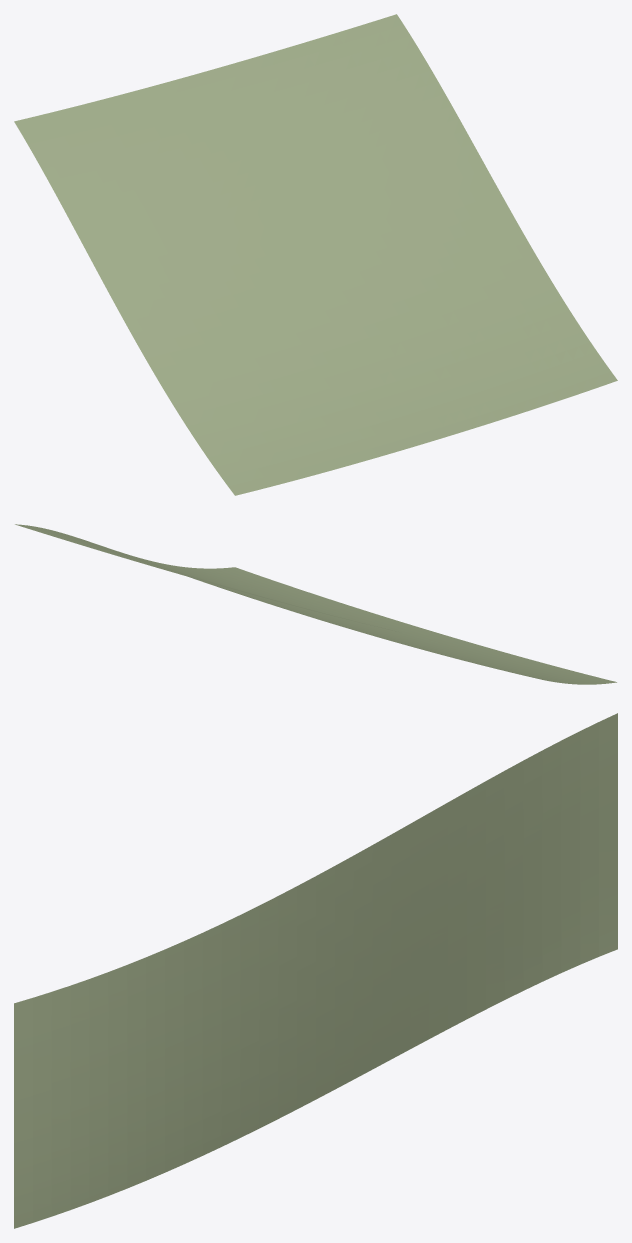
The model's file is expanse-25-22.glb.
The picture shows the model from 3 angles, top to bottom: view 1: azimuth 30°, elevation 25°; view 2: azimuth 150°, elevation 25°; view 3: azimuth 270°, elevation 25°; orthographic projection. The views are drawn at different scales.
Parts seen in each view (by area): view 1: expanse-25-22; view 2: expanse-25-22; view 3: expanse-25-22.
Part boxes in pixels (left/top/right/bottom): expanse-25-22: left=14, top=14, right=617, bottom=495; expanse-25-22: left=15, top=524, right=616, bottom=684; expanse-25-22: left=14, top=713, right=617, bottom=1228.
Bounding box in the file's own units: 256 × 145 × 256.
